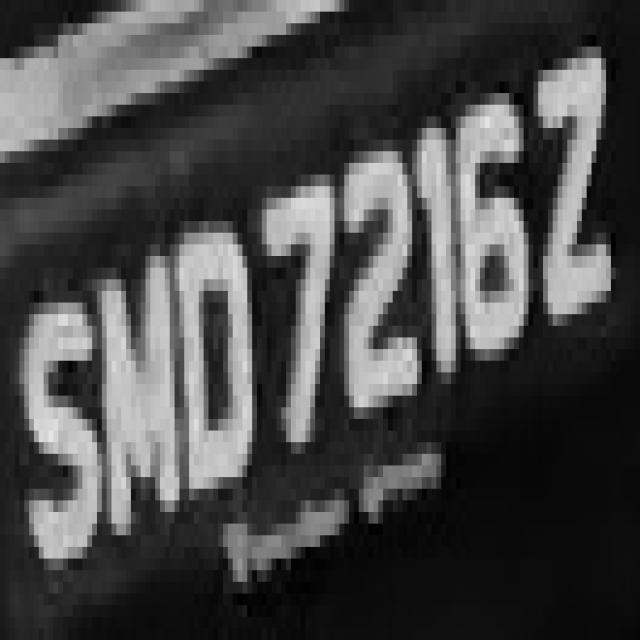1: (417, 93, 465, 407)
2: (325, 128, 427, 407)
6: (446, 59, 529, 372)
7: (248, 163, 340, 477)
D: (170, 175, 257, 512)
M: (92, 233, 194, 547)
S: (15, 267, 97, 594)
Z: (533, 35, 616, 326)
